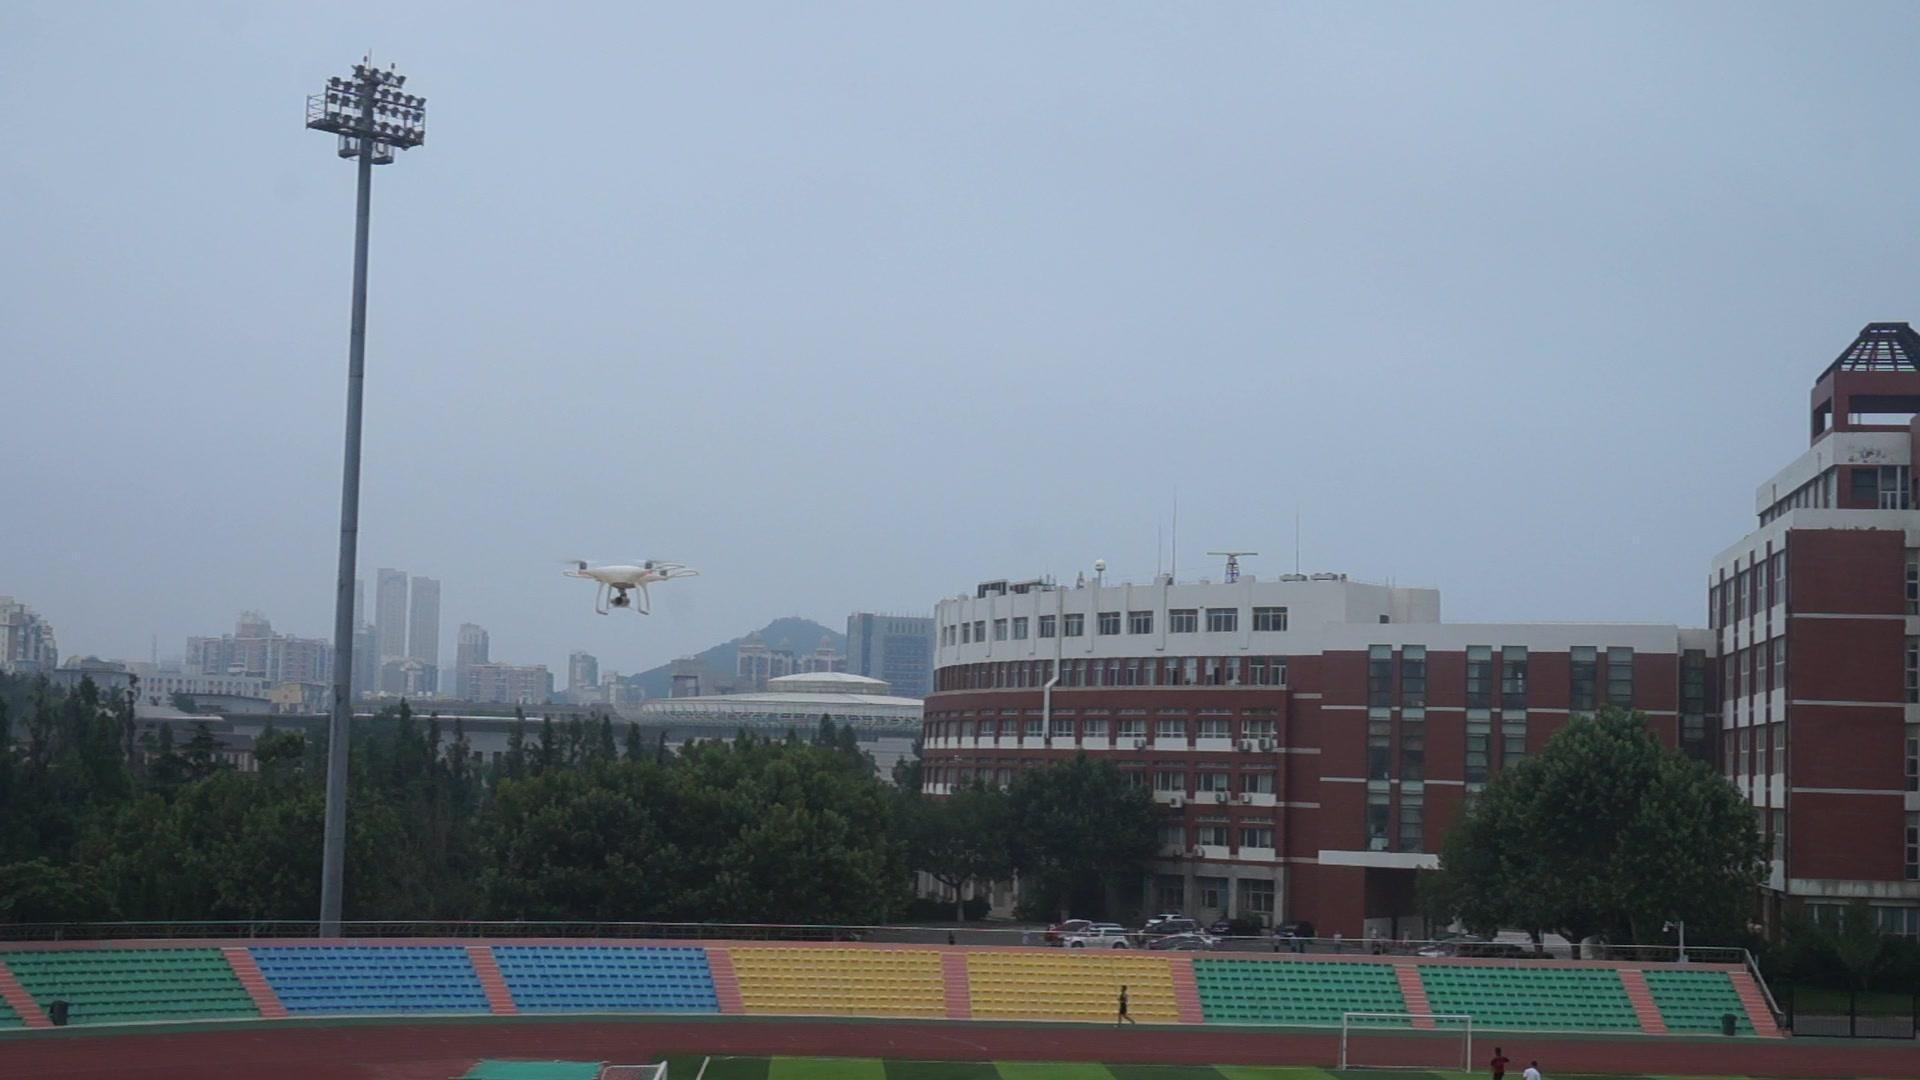UAV: (562, 558, 702, 617)
